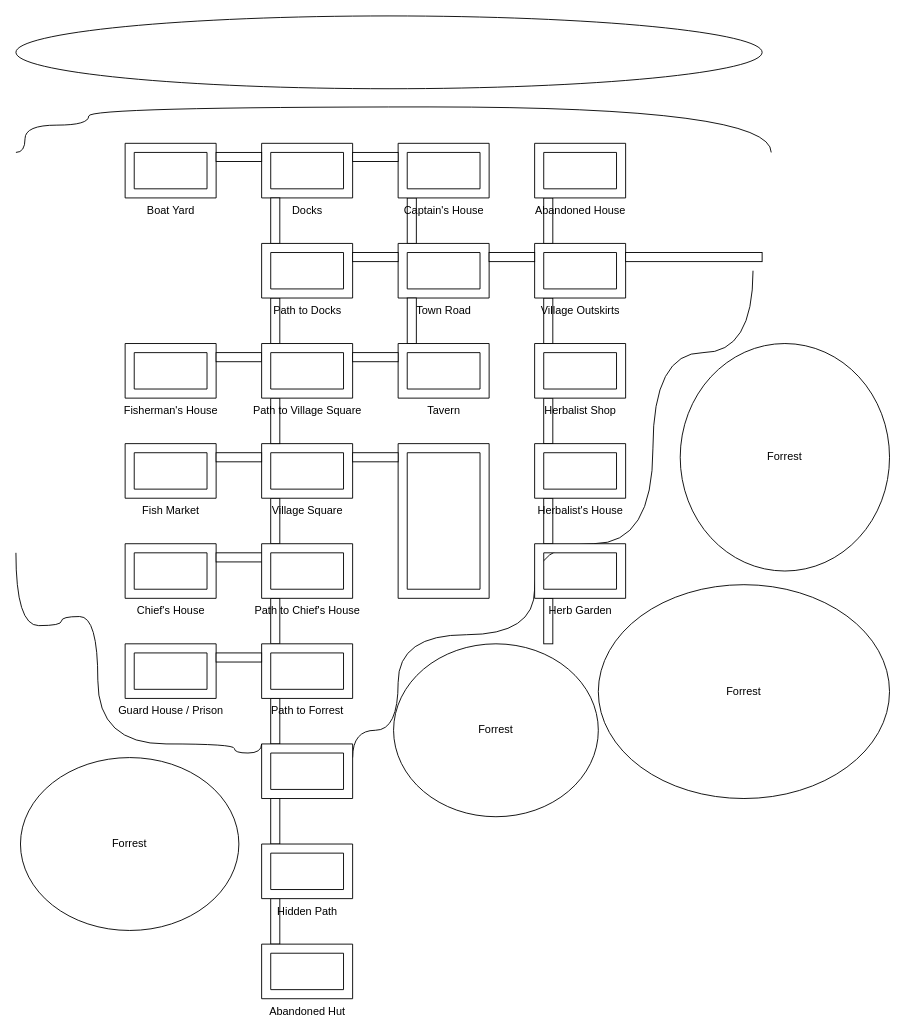
Some shapes in this 905 by 1034 pixel diagram are drawn without their labels. Here are the shapes that lost their labels. From the top down, the centre of each, then its label:
At (388,52): "Sea".
At (443,520): "Town Hall".
At (307,771): "Forrest Entrance".
